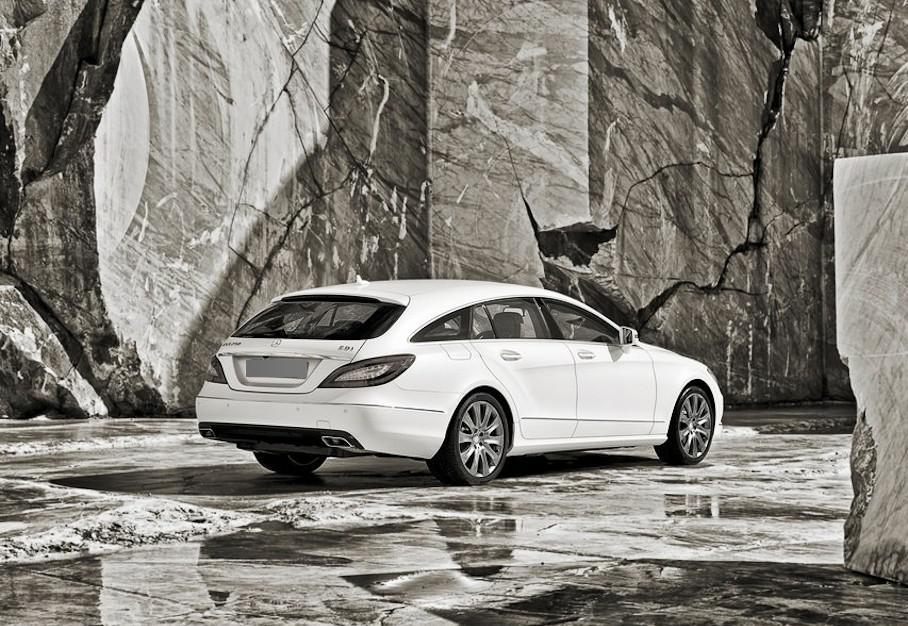Wagon: (193, 277, 725, 487)
